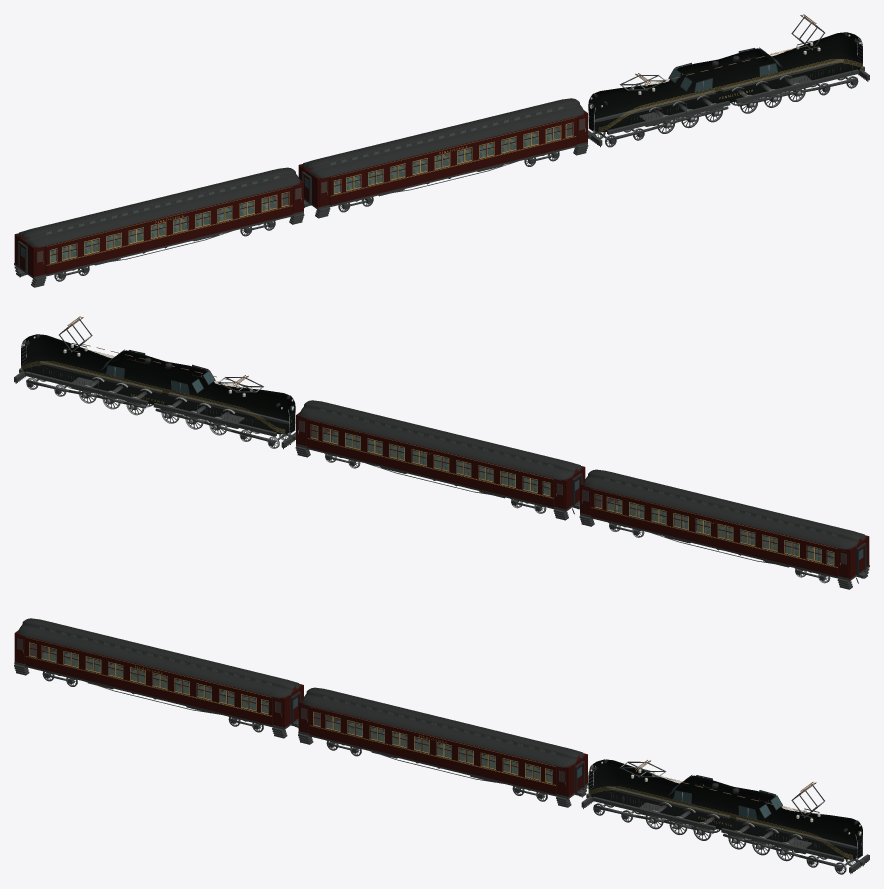
File: model-trains-occluder-before-step-flange-correction.glb
The picture shows the model from 3 angles, top to bottom: view 1: azimuth 30°, elevation 25°; view 2: azimuth 150°, elevation 25°; view 3: azimuth 330°, elevation 25°; orthographic projection.
Parts seen in each view (by area): view 1: Production GG1 assembly — GG1DarkGreenLocomotiveEnamel, P70 passenger coach.013, P70 passenger coach.004, P70 passenger coach.011, P70 passenger coach.002, Production GG1 assembly — CastSteelRunningGear, P70 passenger coach.014, P70 passenger coach.005, P70 passenger coach.009, P70 passenger coach, P70 passenger coach.015, P70 passenger coach.006 (+4 smaller); view 2: Production GG1 assembly — GG1DarkGreenLocomotiveEnamel, P70 passenger coach.013, P70 passenger coach.004, P70 passenger coach.011, P70 passenger coach.002, Production GG1 assembly — CastSteelRunningGear, P70 passenger coach.005, P70 passenger coach.014, P70 passenger coach.009, P70 passenger coach, P70 passenger coach.015, P70 passenger coach.006 (+4 smaller); view 3: Production GG1 assembly — GG1DarkGreenLocomotiveEnamel, P70 passenger coach.004, P70 passenger coach.013, P70 passenger coach.002, P70 passenger coach.011, Production GG1 assembly — CastSteelRunningGear, P70 passenger coach.014, P70 passenger coach.005, P70 passenger coach, P70 passenger coach.009, P70 passenger coach.006, P70 passenger coach.015 (+4 smaller).
Boxes of the visible parts, x1,y1,x2,y2 form: Production GG1 assembly — GG1DarkGreenLocomotiveEnamel: (588, 32, 862, 131); P70 passenger coach.013: (14, 180, 303, 276); P70 passenger coach.004: (298, 110, 587, 207); P70 passenger coach.011: (17, 167, 300, 277); P70 passenger coach.002: (301, 98, 584, 207); Production GG1 assembly — CastSteelRunningGear: (588, 16, 869, 147); P70 passenger coach.014: (37, 176, 301, 262); P70 passenger coach.005: (321, 107, 585, 193); P70 passenger coach.009: (14, 206, 304, 287); P70 passenger coach: (304, 132, 588, 218); P70 passenger coach.015: (46, 186, 292, 265); P70 passenger coach.006: (330, 117, 576, 196); Production GG1 assembly — GG1DarkGreenLocomotiveEnamel: (21, 334, 295, 433); P70 passenger coach.013: (580, 482, 869, 578); P70 passenger coach.004: (296, 412, 585, 509); P70 passenger coach.011: (583, 469, 866, 583); P70 passenger coach.002: (299, 400, 582, 514); Production GG1 assembly — CastSteelRunningGear: (14, 318, 295, 449); P70 passenger coach.005: (298, 409, 562, 495); P70 passenger coach.014: (582, 478, 846, 564); P70 passenger coach.009: (579, 511, 869, 589); P70 passenger coach: (295, 434, 579, 520); P70 passenger coach.015: (591, 488, 837, 567); P70 passenger coach.006: (307, 419, 553, 498); Production GG1 assembly — GG1DarkGreenLocomotiveEnamel: (588, 759, 862, 859); P70 passenger coach.004: (298, 700, 587, 796); P70 passenger coach.013: (14, 630, 303, 727); P70 passenger coach.002: (302, 687, 584, 797); P70 passenger coach.011: (18, 618, 300, 728); Production GG1 assembly — CastSteelRunningGear: (581, 761, 869, 873); P70 passenger coach.014: (17, 627, 280, 713); P70 passenger coach.005: (301, 696, 564, 782); P70 passenger coach: (298, 720, 588, 807); P70 passenger coach.009: (14, 651, 298, 738); P70 passenger coach.006: (309, 706, 555, 785); P70 passenger coach.015: (26, 637, 271, 716).
Size of the model in its own units: 73.7 by 6.16 by 3.38.
Materials: 12 (2 with a texture image).
